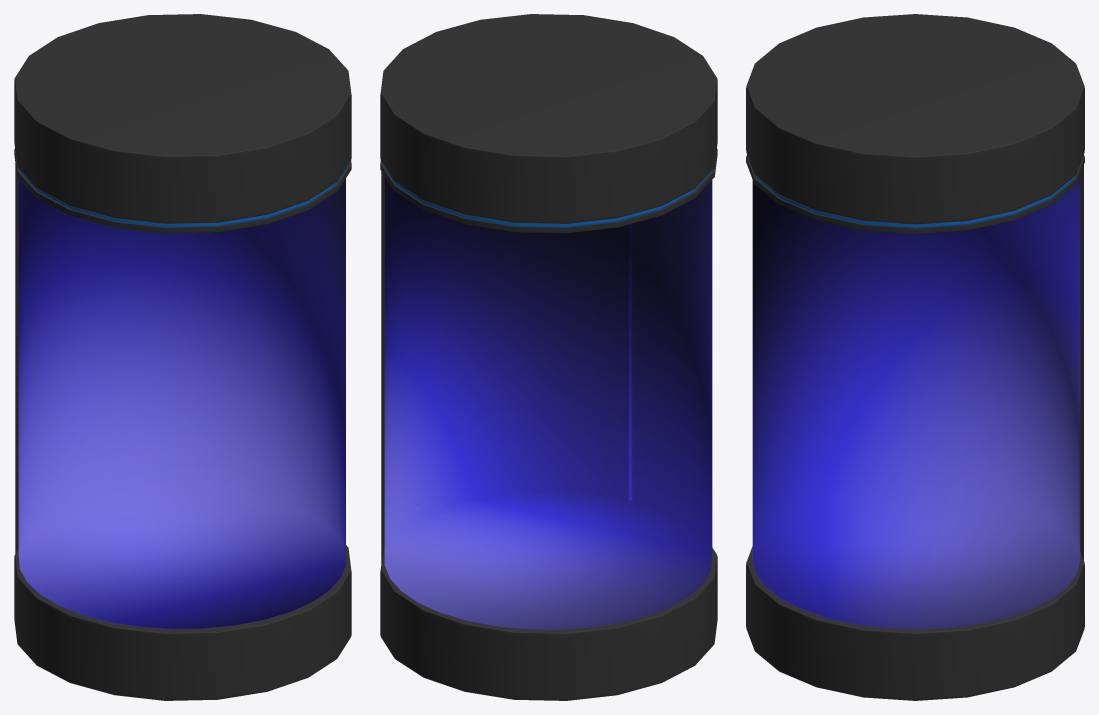
3 renders of one model, left to right at view 1: azimuth 30°, elevation 25°; view 2: azimuth 150°, elevation 25°; view 3: azimuth 270°, elevation 25°, orthographic.
Parts seen in each view (by area): view 1: Cylinder.001, pCylinder2.001, pCylinder2, pCylinder2.002, pCylinder3, pCylinder2.003; view 2: Cylinder.001, pCylinder2.001, pCylinder2, pCylinder2.002, pCylinder3, pCylinder2.003; view 3: Cylinder.001, pCylinder2.001, pCylinder2, pCylinder2.002, pCylinder3, pCylinder2.003.
Boxes of the visible parts, <box> form: Cylinder.001: <box>18,179,345,628</box>; pCylinder2.001: <box>14,14,351,223</box>; pCylinder2: <box>14,545,351,700</box>; pCylinder2.002: <box>14,149,351,233</box>; pCylinder3: <box>15,164,18,553</box>; pCylinder2.003: <box>19,163,349,226</box>; Cylinder.001: <box>384,176,712,629</box>; pCylinder2.001: <box>380,14,717,223</box>; pCylinder2: <box>380,547,717,700</box>; pCylinder2.002: <box>380,149,717,233</box>; pCylinder3: <box>381,161,384,567</box>; pCylinder2.003: <box>382,163,712,226</box>; Cylinder.001: <box>752,175,1080,628</box>; pCylinder2.001: <box>746,14,1084,224</box>; pCylinder2: <box>746,546,1084,700</box>; pCylinder2.002: <box>746,154,1084,233</box>; pCylinder3: <box>1080,154,1083,560</box>; pCylinder2.003: <box>756,176,1075,227</box>.
Size of the model in its own units: 2.12 by 3.75 by 2.12.
5 materials, 1 textured.
